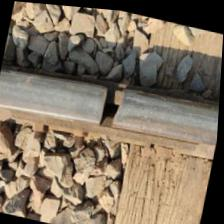person: (74, 66, 154, 142)
